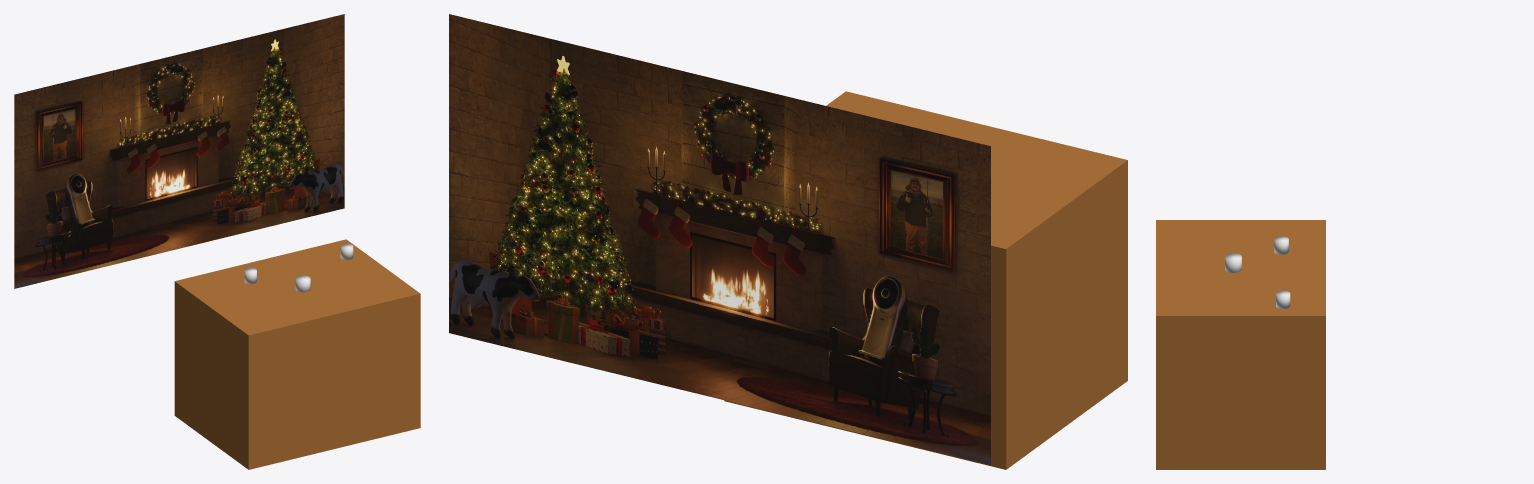
3 views of the same model, side by side, from view 1: azimuth 30°, elevation 25°; view 2: azimuth 150°, elevation 25°; view 3: azimuth 270°, elevation 25° (orthographic). The views are drawn at different scales.
Visible parts, largest first — view 1: Pasted image, Cube; view 2: Pasted image, Cube; view 3: Cube.
Part boxes in pixels (left/top/right/bottom): Pasted image: left=14, top=14, right=344, bottom=288; Cube: left=174, top=239, right=420, bottom=469; Pasted image: left=449, top=14, right=990, bottom=465; Cube: left=724, top=91, right=1127, bottom=469; Cube: left=1156, top=220, right=1325, bottom=469.
Bounding box in the file's own units: 5.14 × 4.13 × 4.28.
2 materials, 1 textured.
